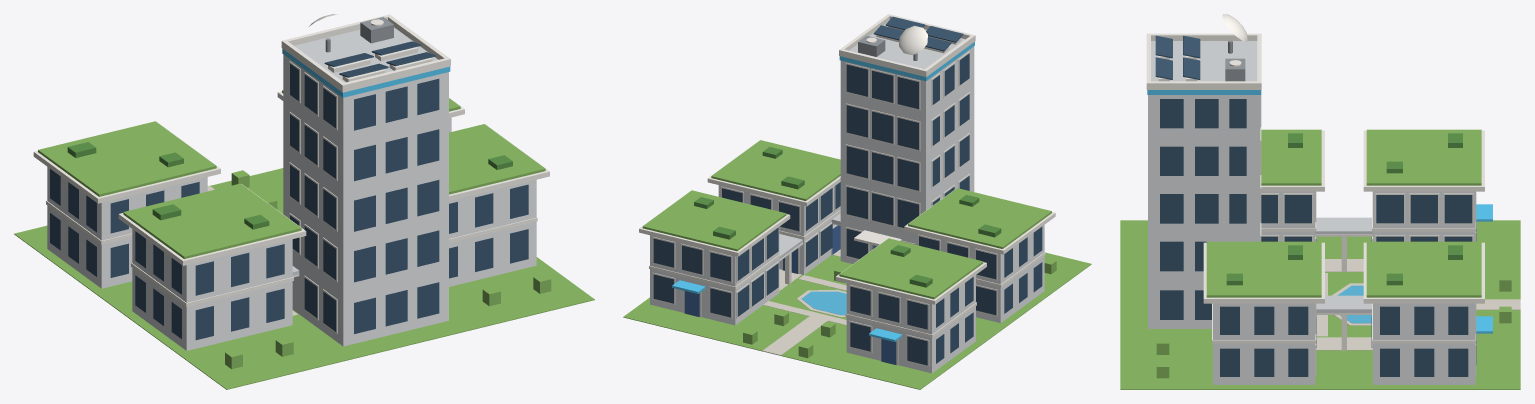
The picture shows the model from 3 angles, left to right: view 1: azimuth 30°, elevation 25°; view 2: azimuth 150°, elevation 25°; view 3: azimuth 270°, elevation 25°; orthographic projection. The views are drawn at different scales.
Parts seen in each view (by area): view 1: headquarters, green_roof (×3), pavilion (×3), window_glass (×26), lawn, roof_slab (×3), parapet (×4), roof, crown_band, floor_band, ac_unit_body; view 2: green_roof (×4), window_glass (×26), lawn, pavilion (×4), headquarters, roof_slab (×4), parapet (×2), roof, floor_band (×2), path, pond, dish (+2 smaller); view 3: green_roof (×4), lawn, window_glass (×29), headquarters, pavilion (×4), roof_slab (×4), roof, walkway_roof (×2), parapet (×2), solar_panel (×4), floor_band (×3), walkway_path (×2) (+5 smaller).
Part boxes in pixels (x1,y1,x2,y2): headquarters: [283, 54, 448, 346]; green_roof (×3): [38, 121, 545, 259]; pavilion (×3): [47, 167, 536, 350]; window_glass (×26): [110, 79, 528, 340]; lawn: [14, 168, 594, 389]; roof_slab (×3): [33, 121, 549, 265]; parapet (×4): [281, 14, 450, 92]; roof: [294, 27, 438, 82]; crown_band: [282, 49, 450, 97]; floor_band: [131, 263, 293, 306]; ac_unit_body: [360, 17, 393, 43]; green_roof (×4): [642, 140, 1051, 299]; window_glass (×26): [653, 64, 996, 365]; lawn: [623, 252, 1091, 389]; pavilion (×4): [650, 185, 1044, 373]; headquarters: [840, 46, 974, 263]; roof_slab (×4): [639, 140, 1055, 304]; parapet (×2): [839, 36, 973, 76]; roof: [849, 22, 965, 68]; floor_band (×2): [649, 254, 976, 337]; path: [762, 312, 832, 355]; pond: [801, 291, 846, 315]; dish: [899, 25, 927, 55]; green_roof (×4): [1206, 129, 1481, 297]; lawn: [1120, 220, 1520, 389]; window_glass (×29): [1160, 99, 1472, 376]; headquarters: [1148, 95, 1260, 328]; pavilion (×4): [1213, 191, 1475, 384]; roof_slab (×4): [1203, 130, 1484, 303]; roof: [1151, 41, 1257, 81]; walkway_roof (×2): [1315, 217, 1372, 312]; parapet (×2): [1151, 33, 1257, 89]; solar_panel (×4): [1155, 35, 1200, 79]; floor_band (×3): [1212, 191, 1476, 343]; walkway_path (×2): [1316, 259, 1372, 350].
Bounding box in the file's own units: 32 × 24.53 × 32.
